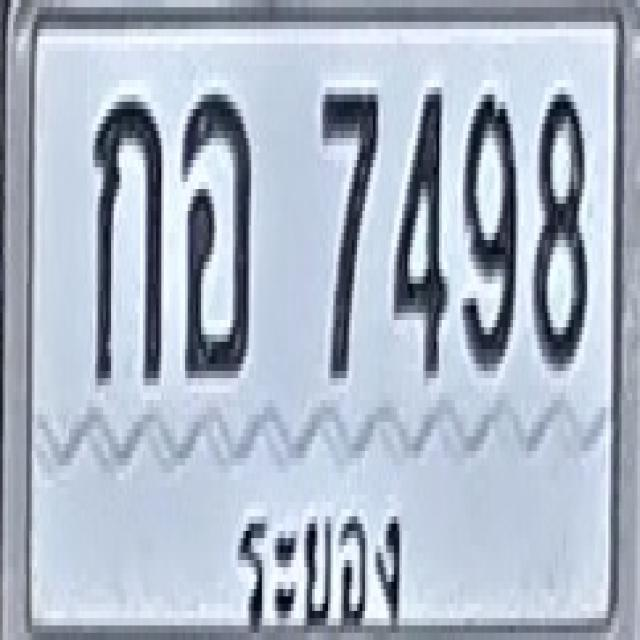4: (391, 80, 447, 371)
7: (320, 83, 378, 374)
8: (533, 84, 586, 367)
9: (463, 84, 516, 367)
A01: (92, 91, 162, 382)
A43: (180, 87, 251, 371)
RYG: (227, 476, 416, 640)
